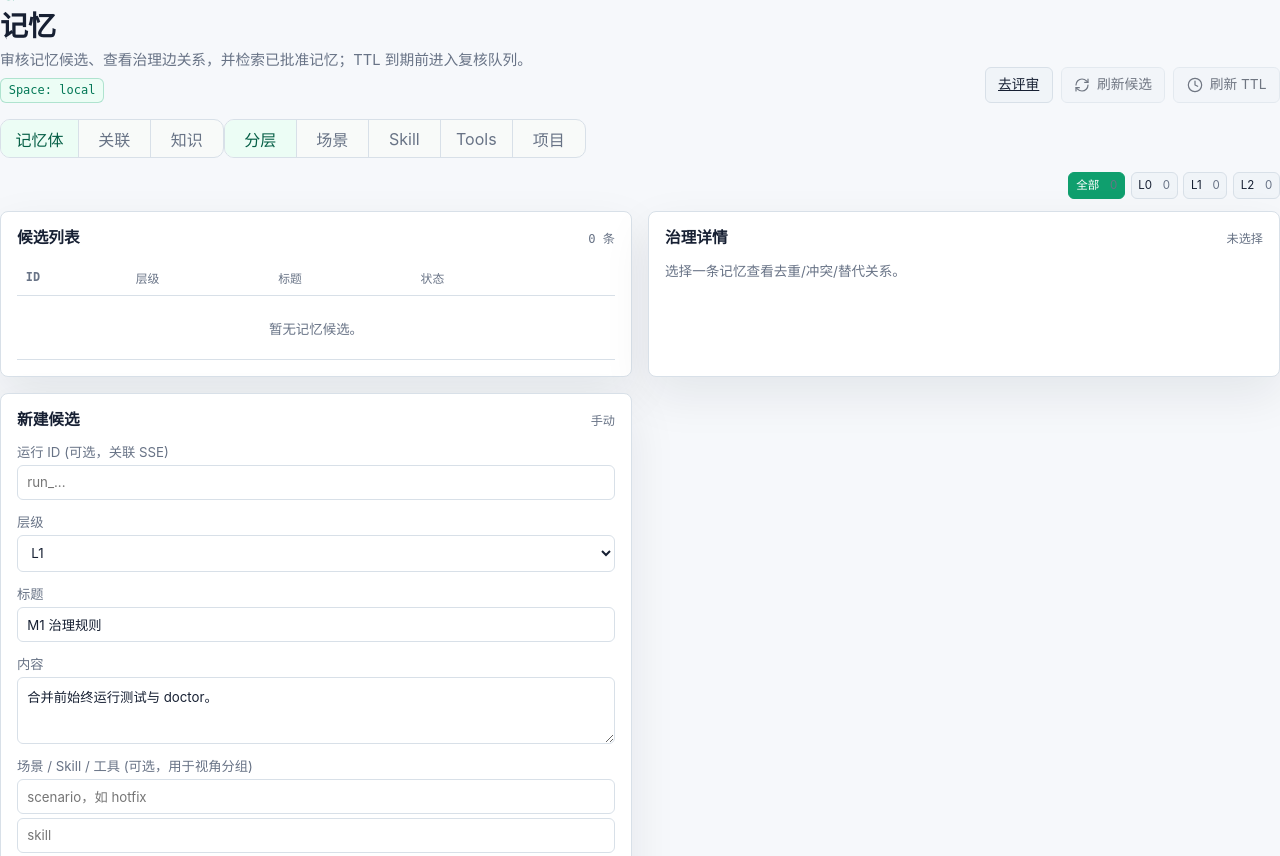
MemoryPage › restores the candidate form after a successful create
The width and height of the screenshot is (1280, 856).
Replace the text in the field showing "M1 治理规则" with "点测标题" at point(316, 624), box left=17, top=607, right=615, bottom=642
(page scrolled)
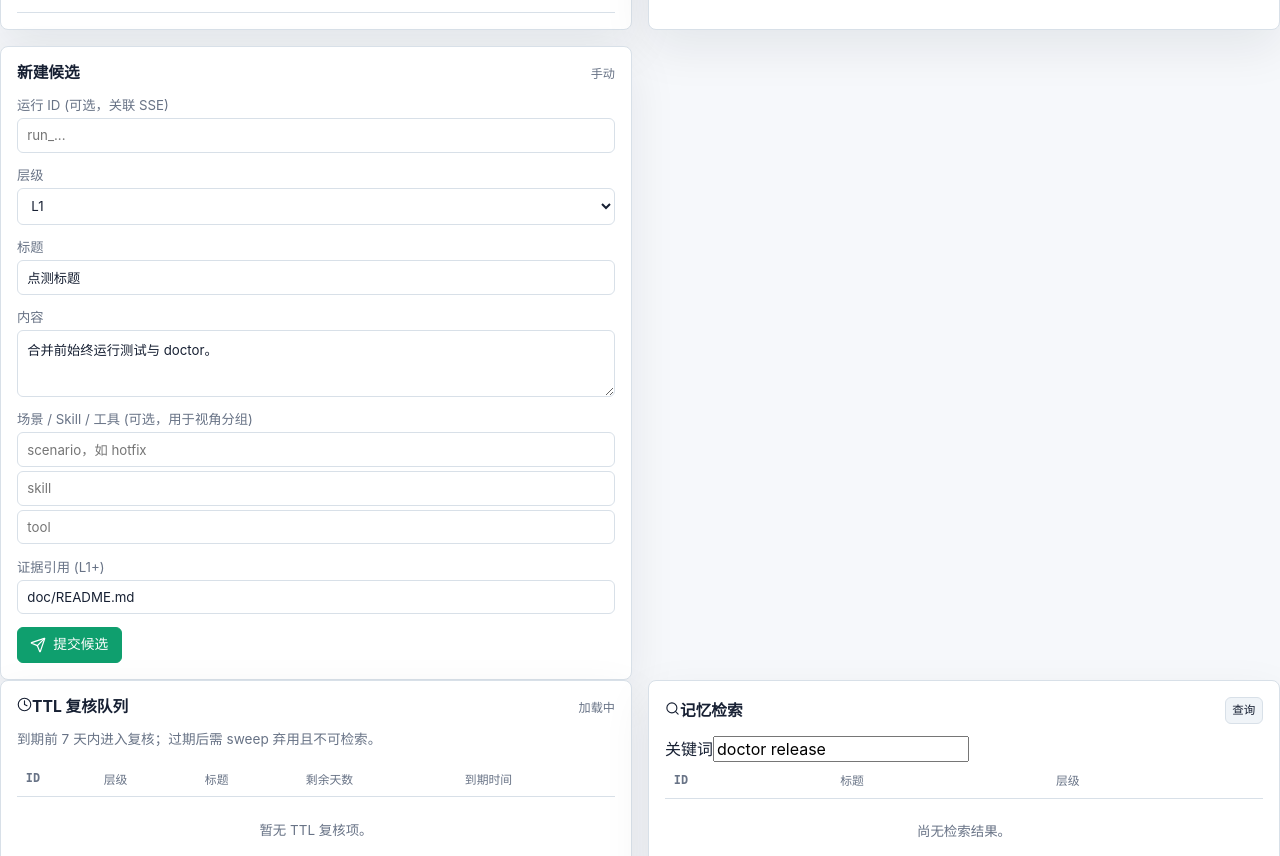
Click the button "提交候选" at point(69, 645), box left=17, top=627, right=122, bottom=663
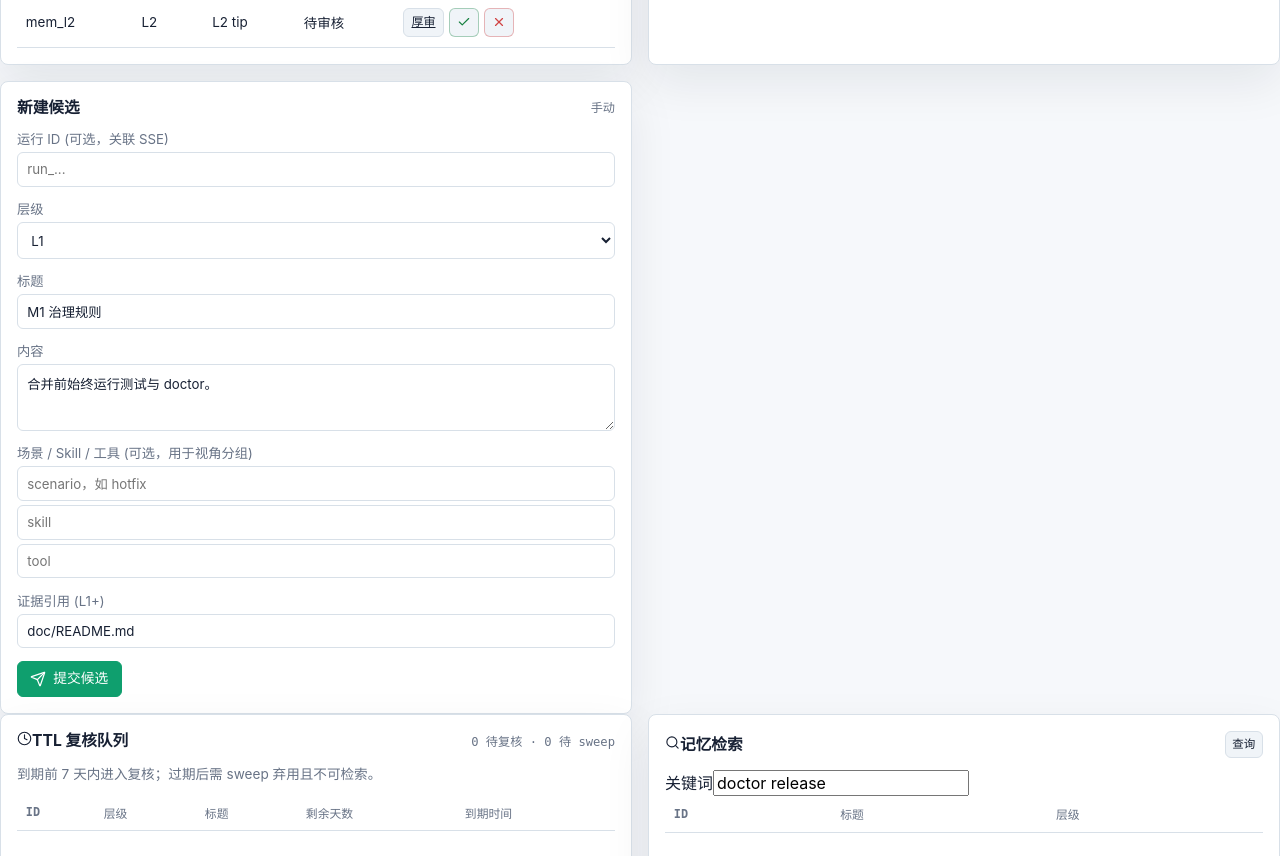
Expected: the field showing "点测标题" is not shown
Expected: the field showing "M1 治理规则" is shown, left=17, top=294, right=615, bottom=329
